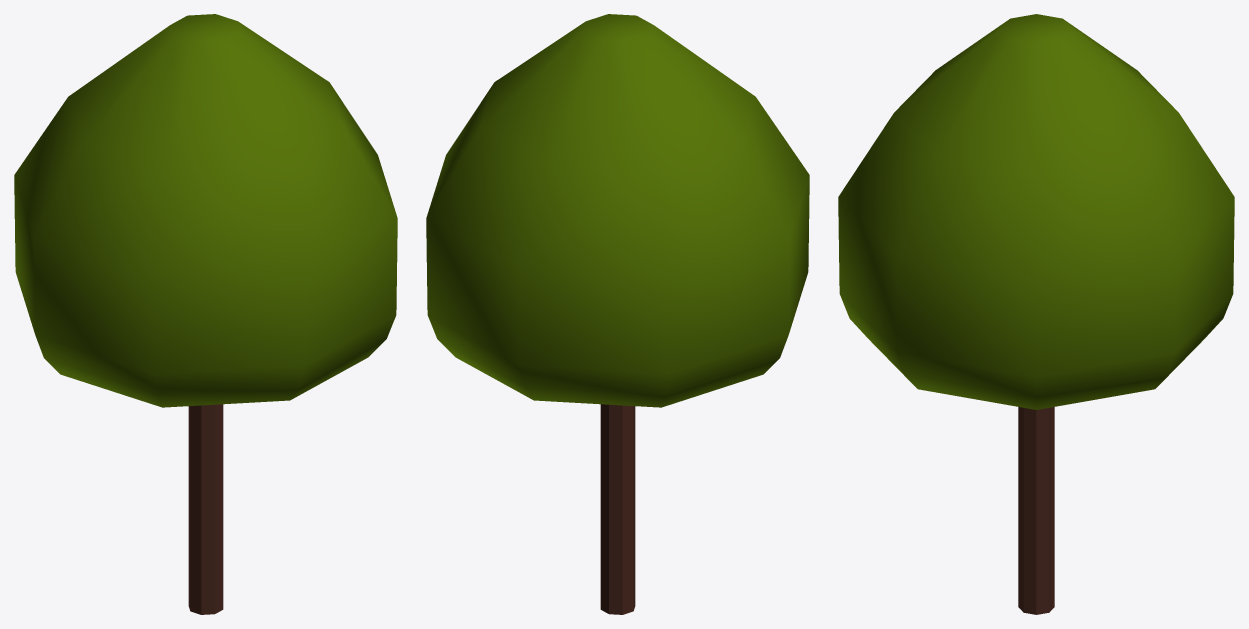
The model's file is Arbre.glb.
The picture shows the model from 3 angles, left to right: view 1: azimuth 30°, elevation 25°; view 2: azimuth 150°, elevation 25°; view 3: azimuth 270°, elevation 25°; orthographic projection.
Visible parts, largest first — view 1: Arbre; view 2: Arbre; view 3: Arbre.
Boxes of the visible parts, bbox=[...] form: Arbre: bbox=[14, 14, 397, 614]; Arbre: bbox=[426, 14, 809, 614]; Arbre: bbox=[838, 14, 1234, 614].
Bounding box in the file's own units: 0.5592 × 0.8988 × 0.5592.
Materials: 1 (1 with a texture image).
